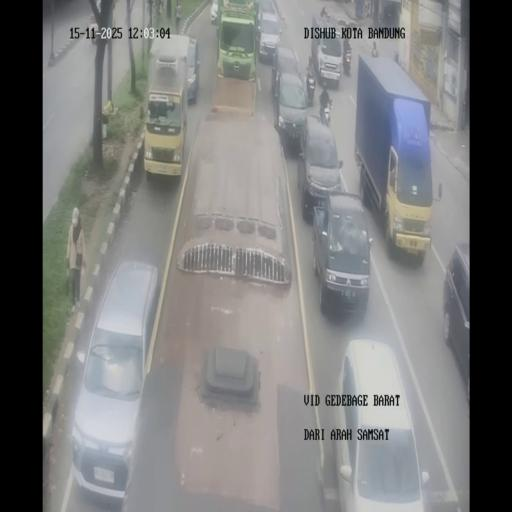car: (71, 259, 159, 502), (335, 340, 427, 508), (312, 192, 373, 316), (297, 116, 342, 222), (442, 244, 469, 414), (272, 46, 302, 107), (256, 0, 278, 38), (186, 37, 199, 101), (210, 0, 219, 24)
motorcycle: (306, 75, 316, 105), (322, 103, 331, 126), (343, 52, 351, 76), (372, 41, 378, 57)
truck: (354, 54, 436, 262), (144, 34, 194, 180), (216, 1, 259, 81), (310, 14, 344, 90)
